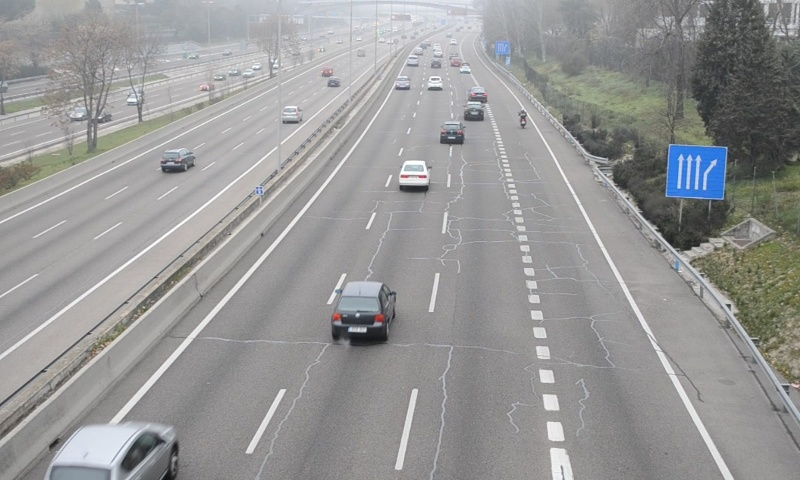car: (45, 419, 178, 478), (333, 281, 396, 336), (398, 160, 432, 187), (440, 121, 463, 145), (463, 101, 484, 122), (468, 86, 488, 102), (426, 75, 444, 91), (394, 74, 411, 89)
motorcycle: (517, 108, 528, 130)
